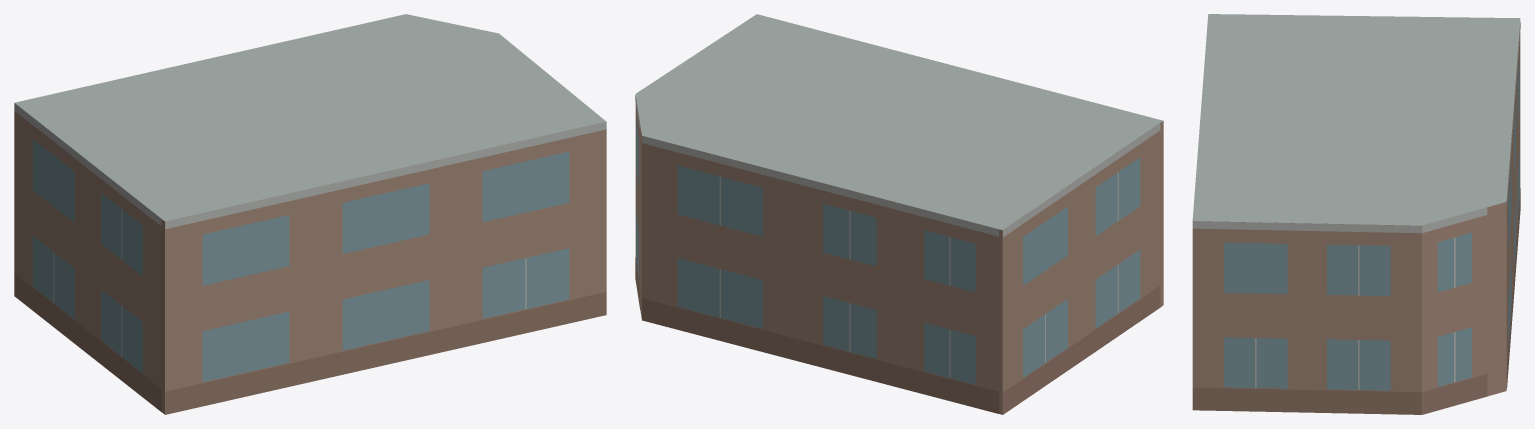
File: survey-upis-32872192.glb
The picture shows the model from 3 angles, left to right: view 1: azimuth 30°, elevation 25°; view 2: azimuth 150°, elevation 25°; view 3: azimuth 270°, elevation 25°; orthographic projection. The views are drawn at different scales.
Visible parts, largest first — view 1: survey-upis-32872192.tmp; view 2: survey-upis-32872192.tmp; view 3: survey-upis-32872192.tmp.
Boxes of the visible parts, bbox=[...] form: survey-upis-32872192.tmp: bbox=[14, 14, 606, 414]; survey-upis-32872192.tmp: bbox=[635, 14, 1163, 414]; survey-upis-32872192.tmp: bbox=[1192, 14, 1520, 414].
Bounding box in the file's own units: 14.65 × 6.1 × 9.59.
